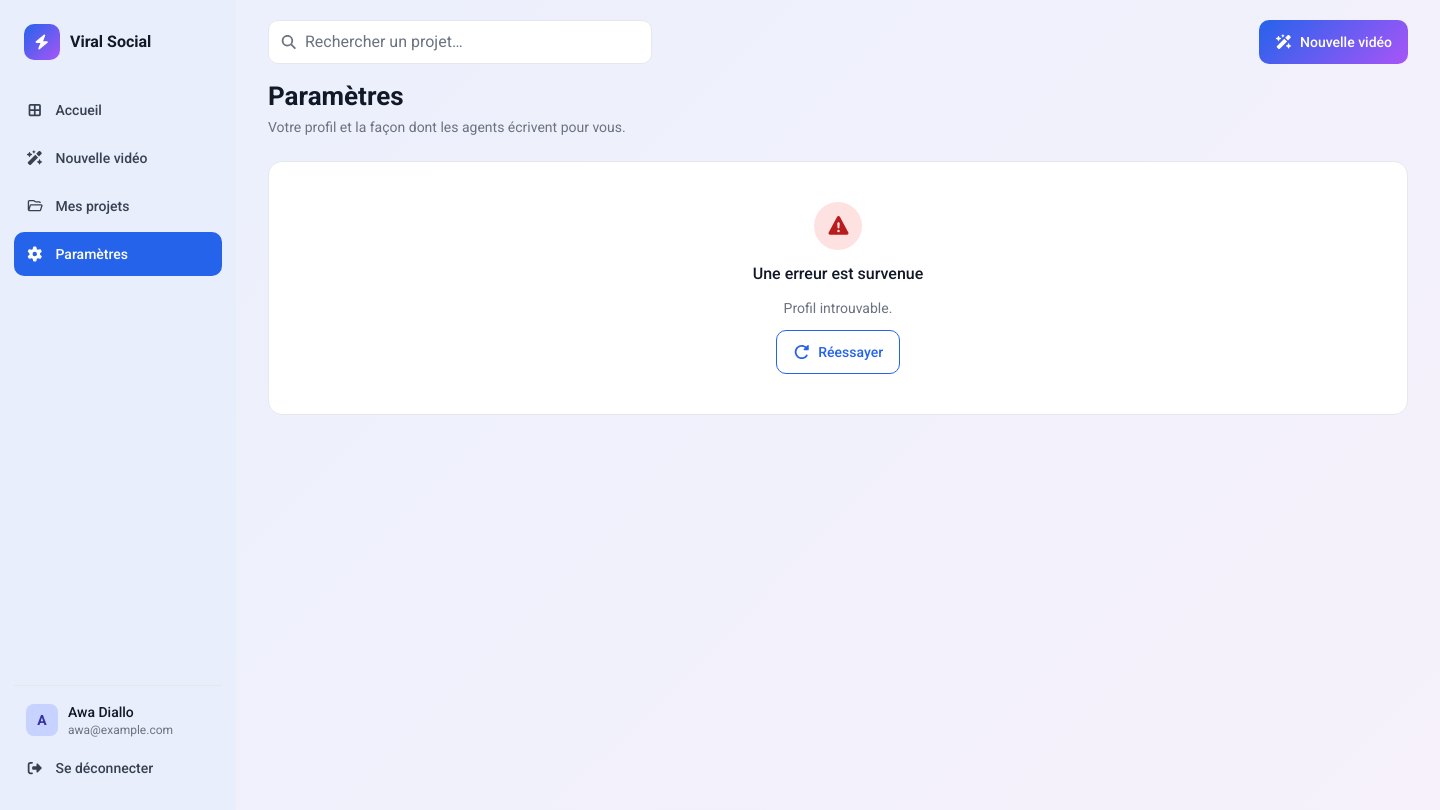
Test case: Paramètres › affiche l’erreur avec Réessayer, puis le formulaire une fois le profil chargé
The image size is (1440, 810).
Expected: the message shows "Profil introuvable.", [784,300,892,316]
Expected: the field labelled "Nom complet" is not shown
Step 1. Click the button "Réessayer" → point(838, 352), box [776,330,900,374]
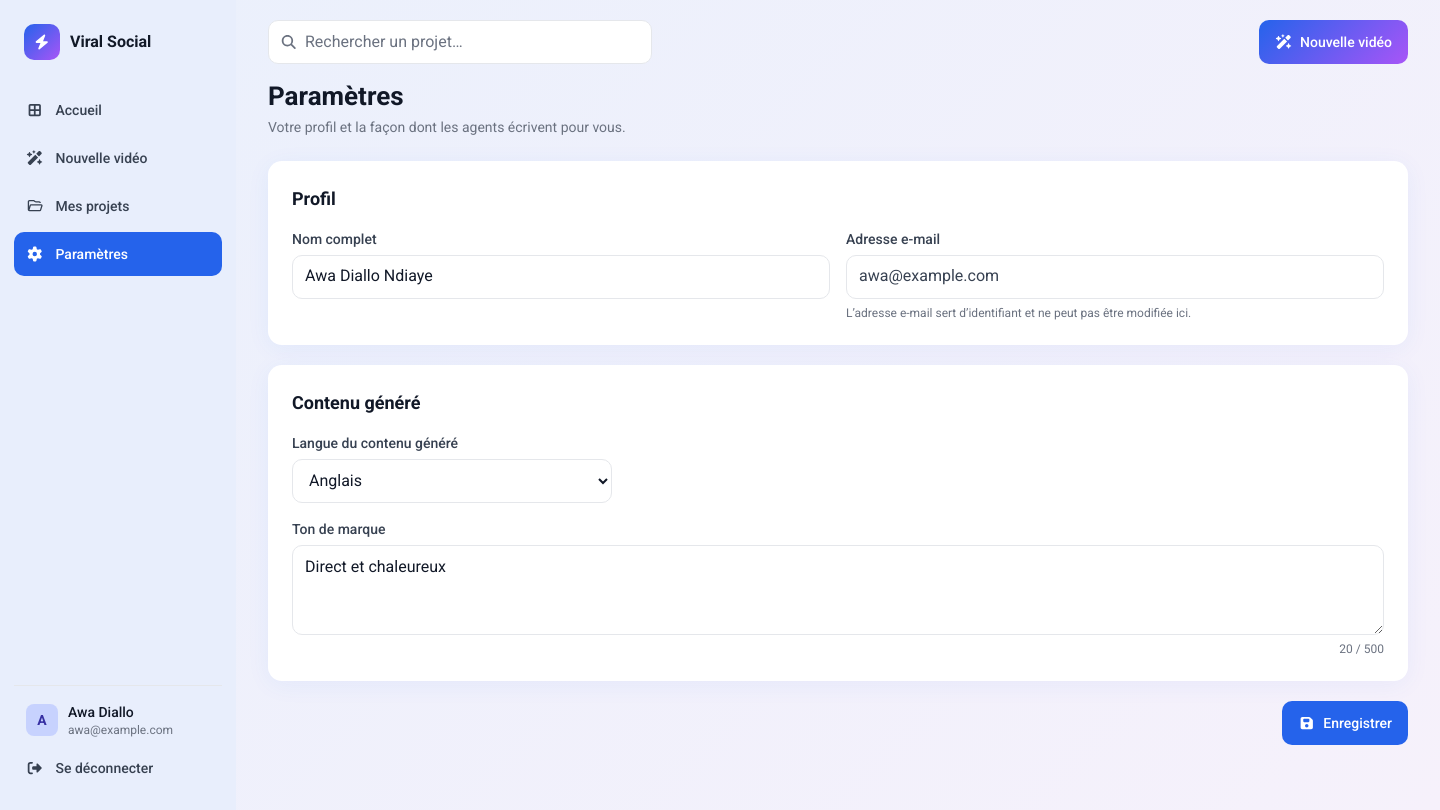
Expected: the field labelled "Nom complet" holds "Awa Diallo Ndiaye", [292,254,830,298]
